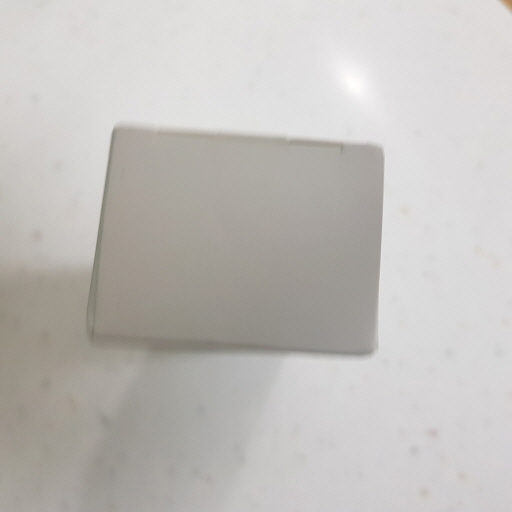Paper_0: (77, 121, 400, 367)
